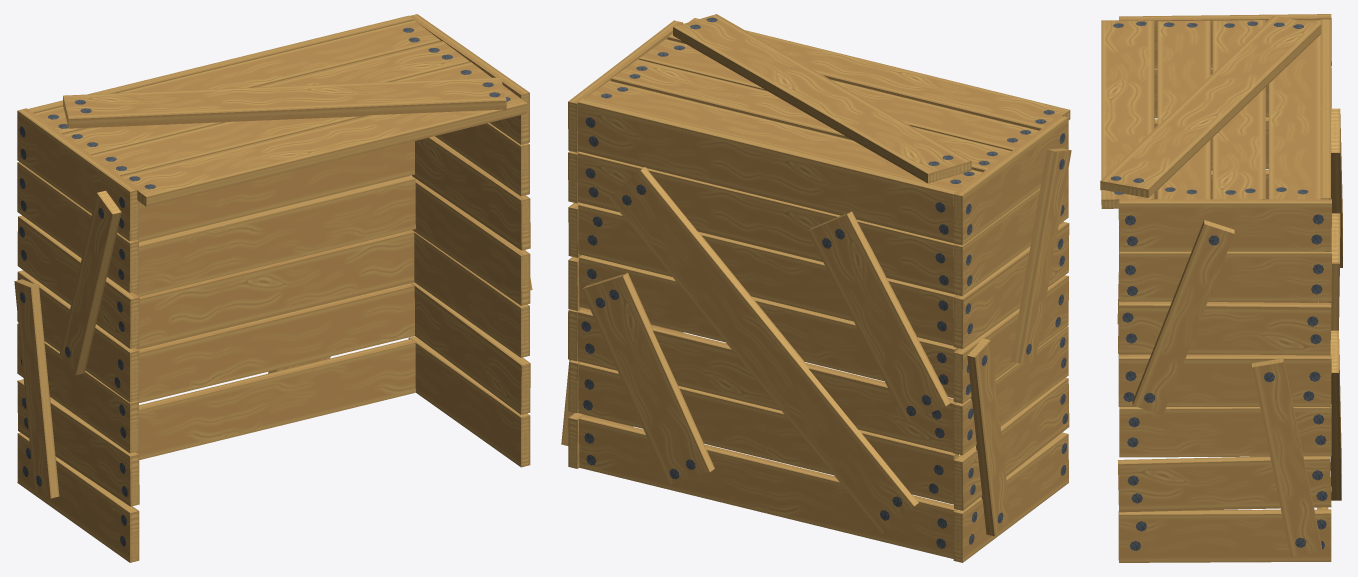
File: hut3.fbx
The picture shows the model from 3 angles, left to right: view 1: azimuth 30°, elevation 25°; view 2: azimuth 150°, elevation 25°; view 3: azimuth 270°, elevation 25°; orthographic projection. The views are drawn at different scales.
Parts seen in each view (by area): view 1: WoodHut; view 2: WoodHut; view 3: WoodHut.
Part boxes in pixels (left/top/right/bottom): WoodHut: left=14, top=14, right=532, bottom=562; WoodHut: left=561, top=14, right=1071, bottom=562; WoodHut: left=1100, top=14, right=1342, bottom=562.
Bounding box in the file's own units: 487 × 422 × 253.
